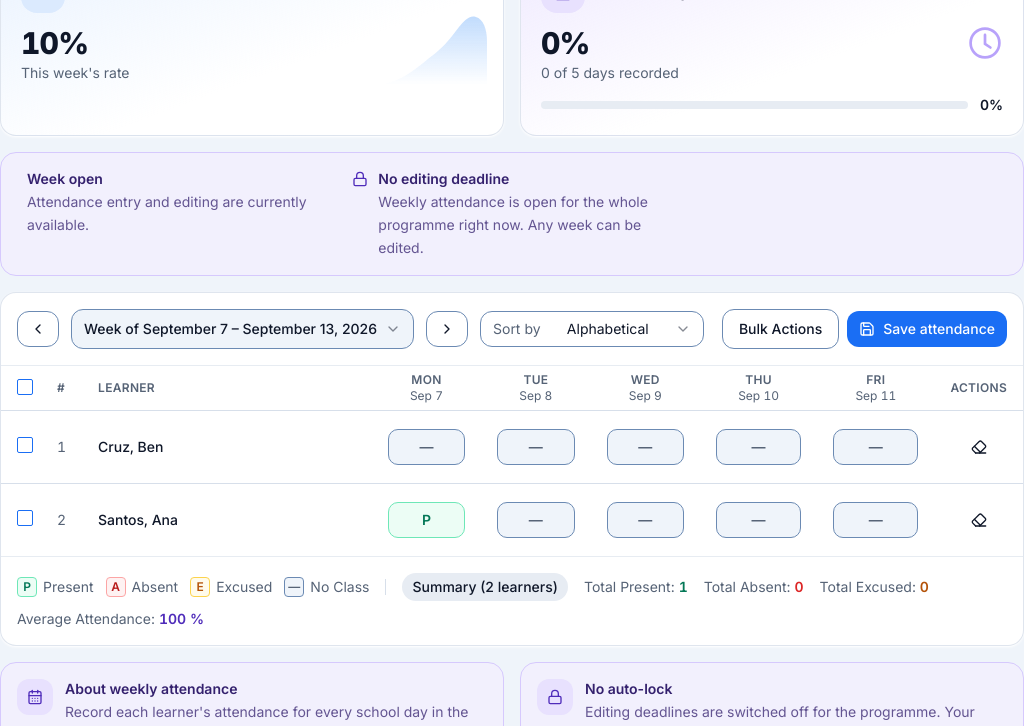
weekly attendance grid › asks before leaving the week, and Stay keeps the week and the marks
(page scrolled)
Click the button named "Clear Ana Santos's week".
click(979, 520)  # box [959, 500, 999, 540]
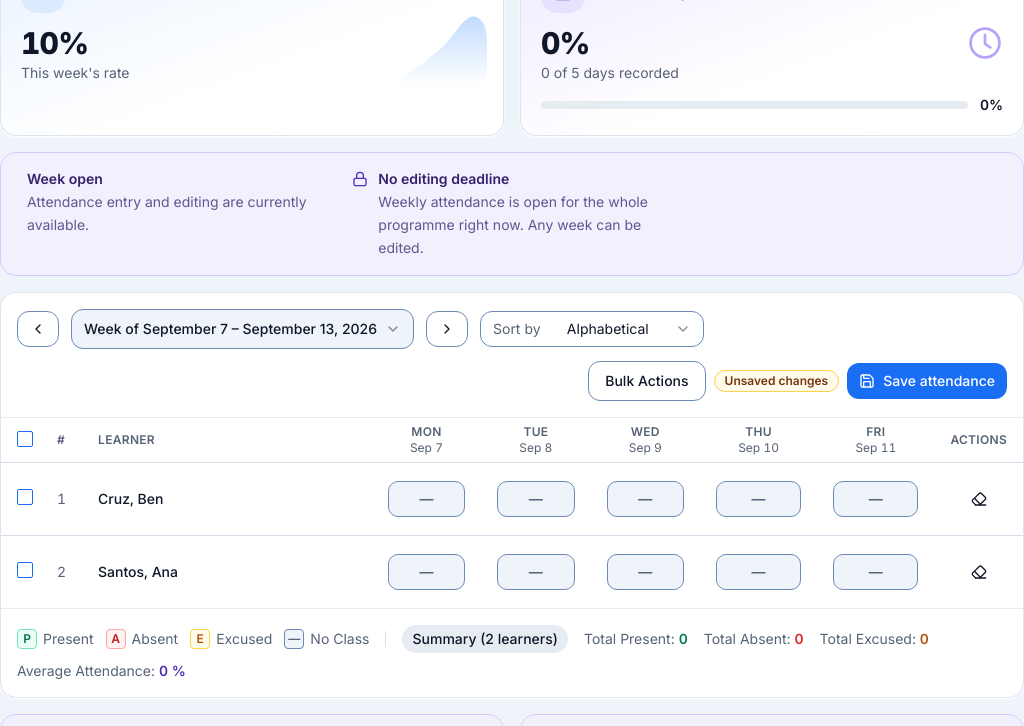
Click the button named "Next week".
click(447, 329)  # box [426, 311, 468, 347]
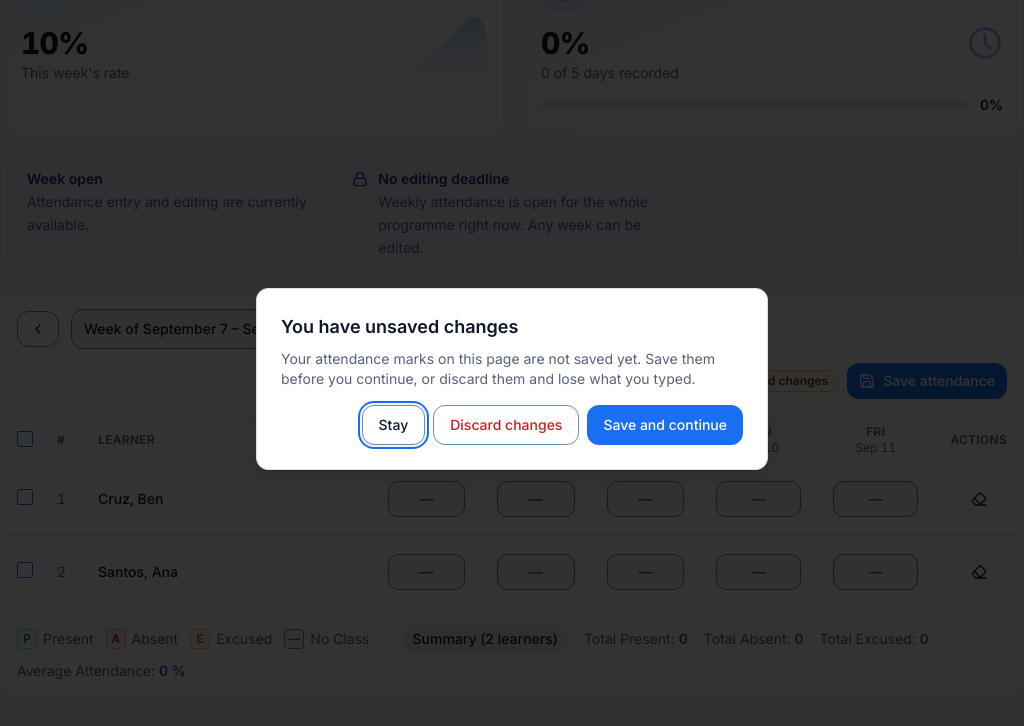
Now the heading "You have unsaved changes" is shown, box [281, 316, 518, 337]
Click the button "Stay".
click(393, 425)  # box [362, 405, 425, 445]
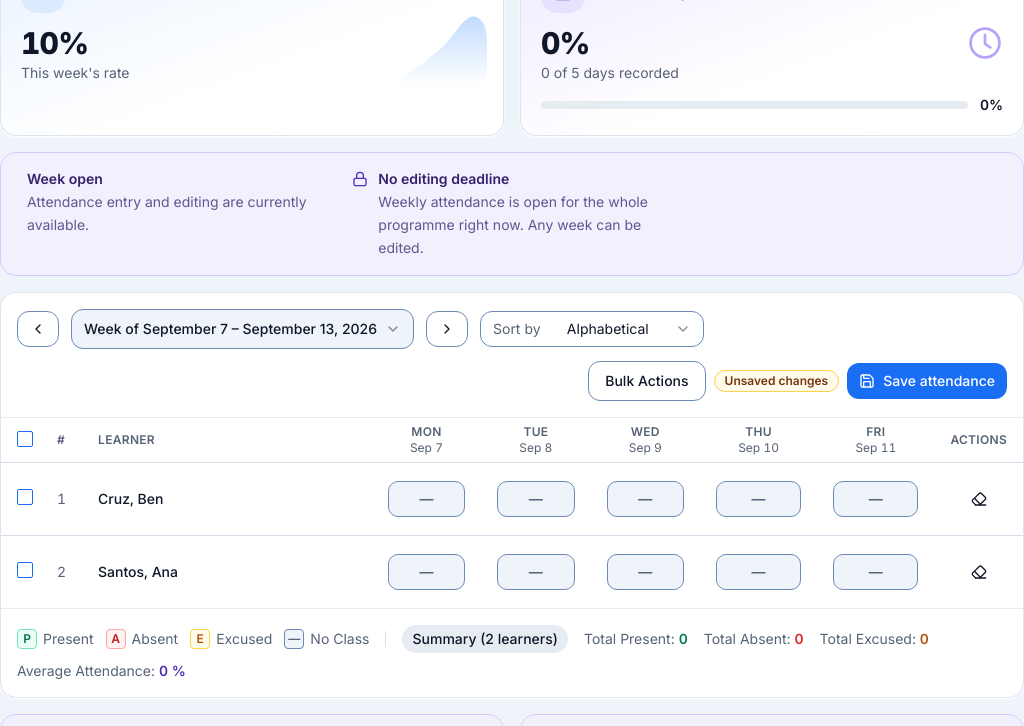
Now the dialog is gone
